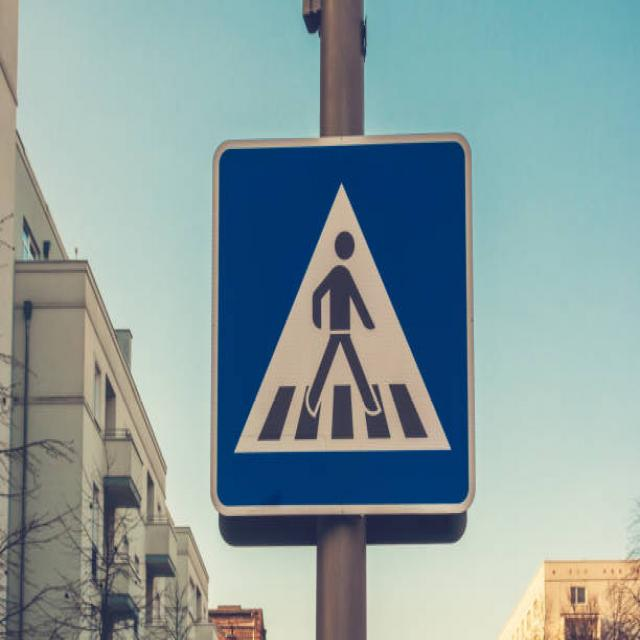crosswalk: (205, 123, 477, 519)
